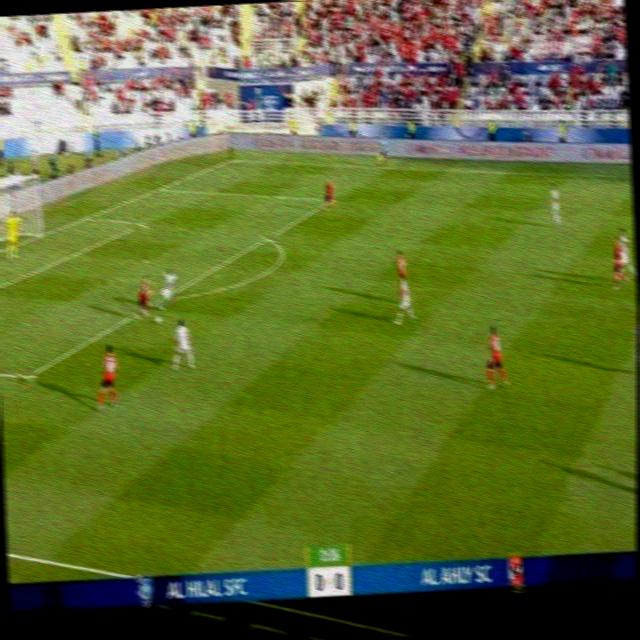bigarea_bottom_inner: (17, 363, 37, 389)
bigarea_top_outter: (151, 178, 168, 194)
bottom_arc_area_intersection: (160, 288, 176, 304)
corner: (221, 152, 236, 164)
smallarea_top_inner: (133, 213, 150, 230)
smallarea_top_outter: (76, 208, 91, 225)
top_arc_area_intersection: (259, 228, 275, 245)
